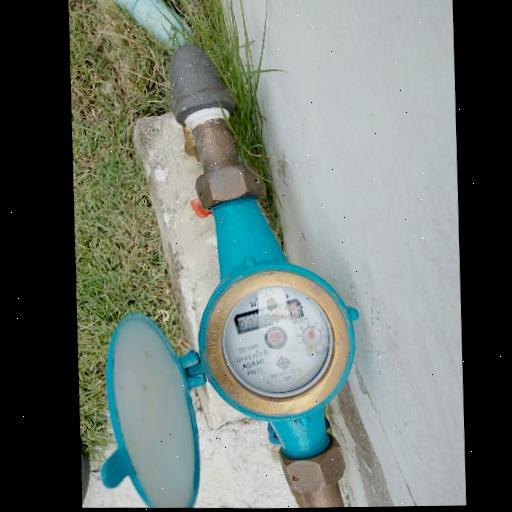0: (289, 301, 301, 319), (246, 312, 259, 328), (237, 316, 250, 331), (255, 311, 268, 326), (263, 309, 276, 324)
4: (271, 305, 285, 321)
7: (280, 304, 292, 319)
border_water_meter_number: (231, 297, 306, 336)
